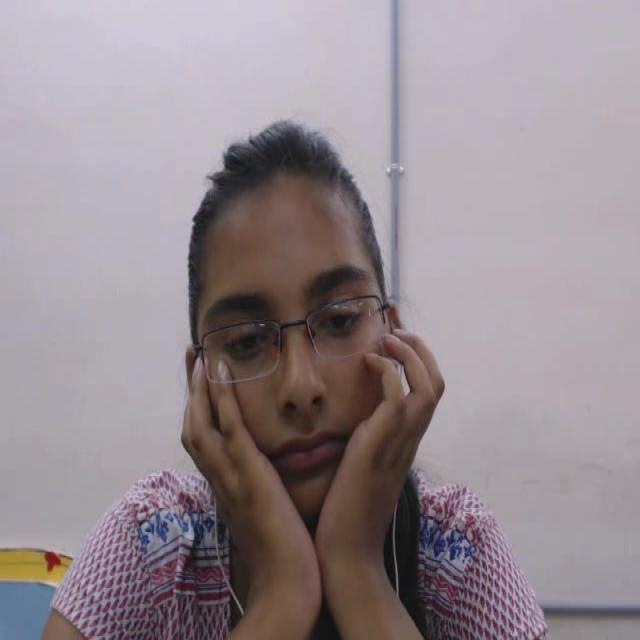Bored: (144, 94, 468, 558)
